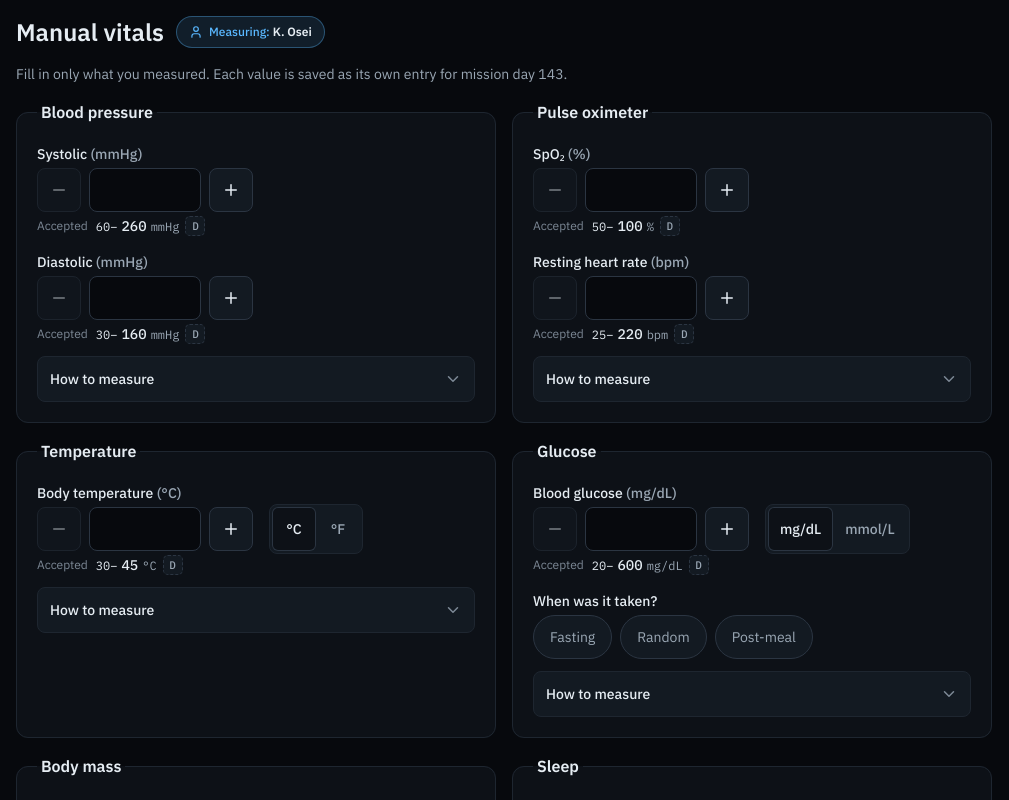
Test: ManualVitalsForm › steppers: + on an empty field starts at the range low end, − is off when empty
expect the 1st button named "Decrease Systolic" is disabled: met, box [37,168,81,212]
Step 1. Click the 2nd button named "Increase Systolic" → (231, 190), box [209,168,253,212]
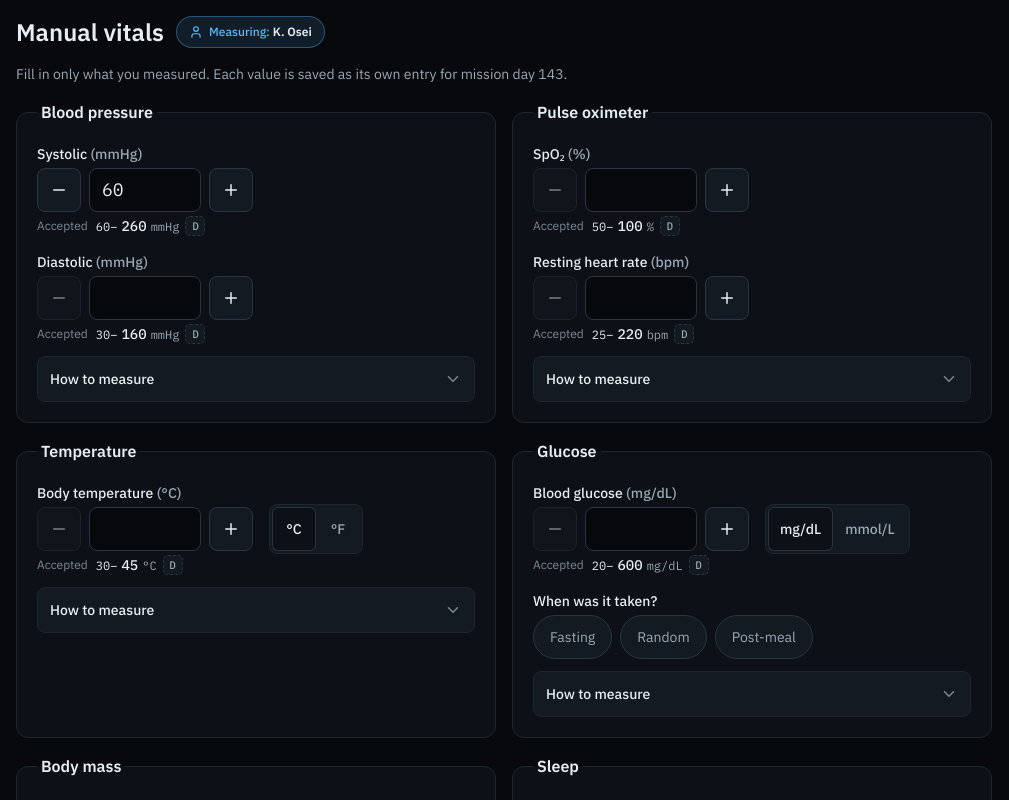
expect the field labelled "Systolic (mmHg)" holds "60": met, box [89,168,201,212]
Step 2. Click the 2nd button named "Increase Systolic" → (231, 190), box [209,168,253,212]
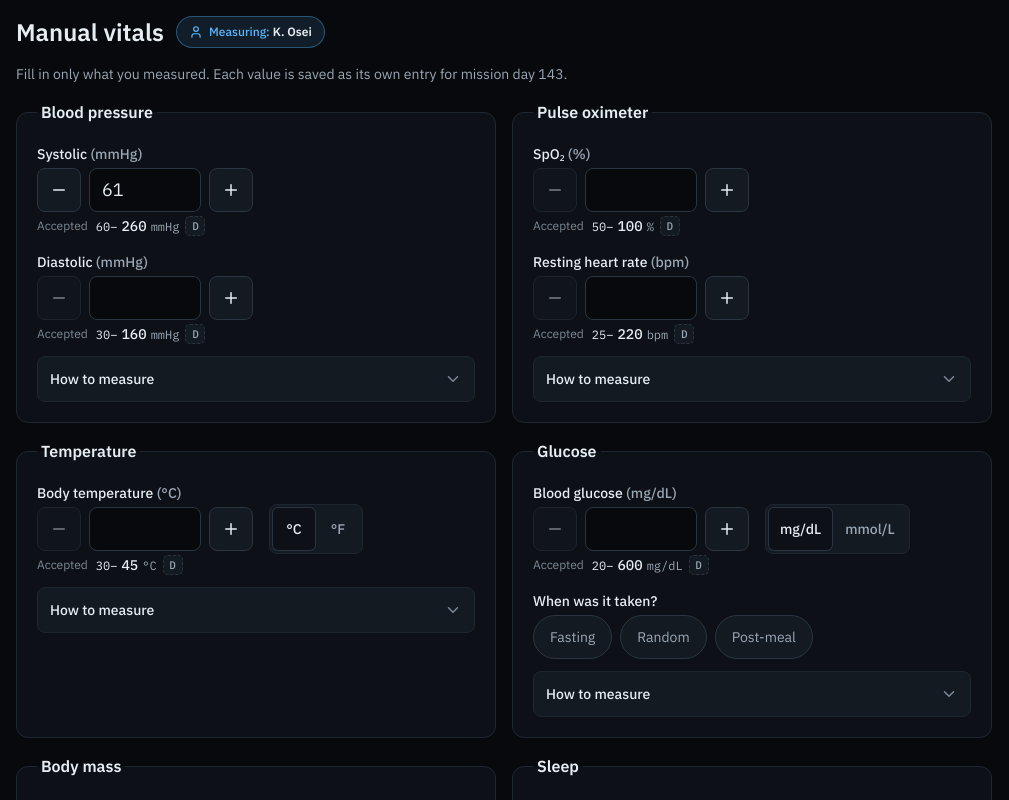
expect the field labelled "Systolic (mmHg)" holds "61": met, box [89,168,201,212]
